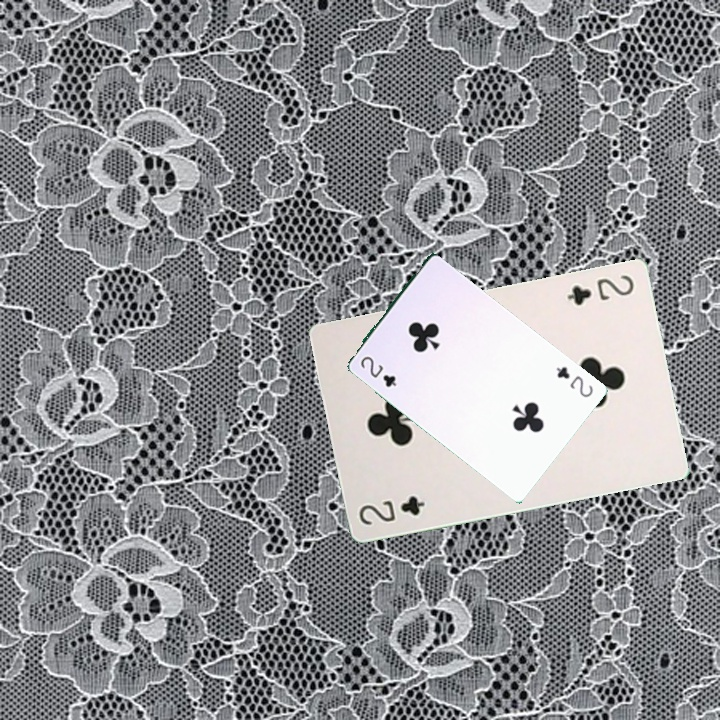2c: (563, 270, 637, 308), (354, 491, 428, 528), (552, 362, 596, 400), (356, 352, 399, 389)
